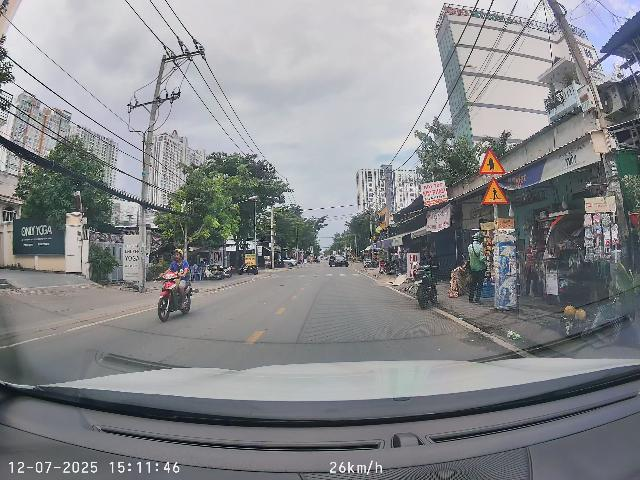207-giao-nhau-voi-duong-khong-uu-tien: (479, 148, 506, 175)
224-duong-nguoi-di-bo-cat-ngang: (482, 176, 510, 205)
